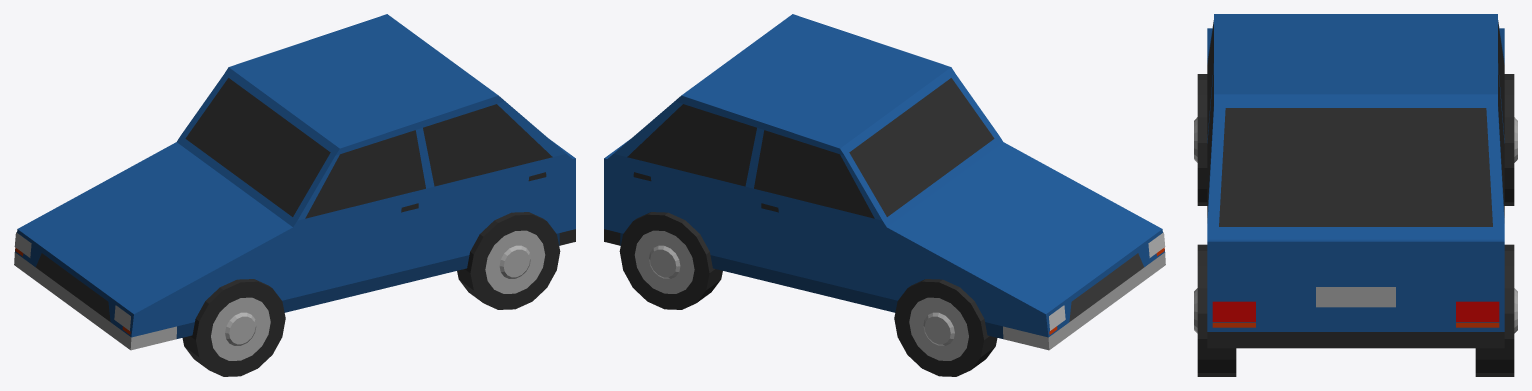
Rendered from Car1d.fbx.
3 views of the same model, side by side, from view 1: azimuth 30°, elevation 25°; view 2: azimuth 150°, elevation 25°; view 3: azimuth 270°, elevation 25° (orthographic). The views are drawn at different scales.
Visible parts, largest first — view 1: Car1d, Car1d_FL, Car1d_RL; view 2: Car1d, Car1d_FR, Car1d_RR; view 3: Car1d, Car1d_RL, Car1d_RR, Car1d_FL, Car1d_FR.
Part boxes in pixels (left/top/right/bottom): Car1d: left=14, top=14, right=575, bottom=350; Car1d_FL: left=182, top=279, right=285, bottom=376; Car1d_RL: left=457, top=212, right=560, bottom=309; Car1d: left=604, top=14, right=1165, bottom=350; Car1d_FR: left=894, top=279, right=997, bottom=376; Car1d_RR: left=619, top=212, right=722, bottom=309; Car1d: left=1207, top=14, right=1504, bottom=348; Car1d_RL: left=1194, top=244, right=1236, bottom=376; Car1d_RR: left=1475, top=244, right=1517, bottom=376; Car1d_FL: left=1194, top=74, right=1207, bottom=205; Car1d_FR: left=1504, top=74, right=1517, bottom=205.
Size of the model in its own units: 3.43 by 1.56 by 1.69.
